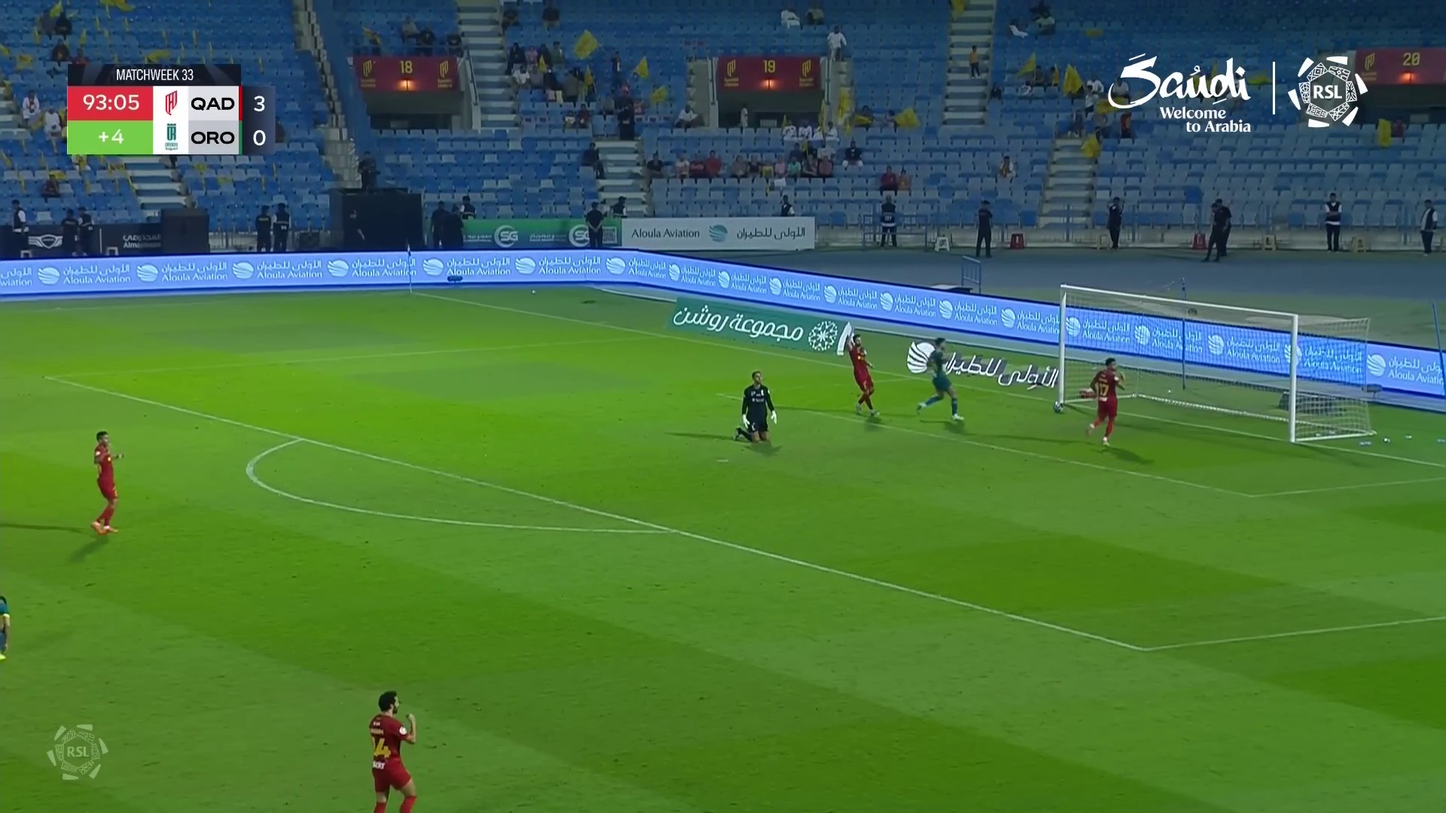ball: (1052, 399, 1065, 414)
player: (360, 689, 423, 813), (915, 336, 966, 425), (87, 429, 128, 535), (1084, 357, 1128, 446), (731, 369, 780, 445), (844, 332, 884, 423), (0, 572, 15, 668)
